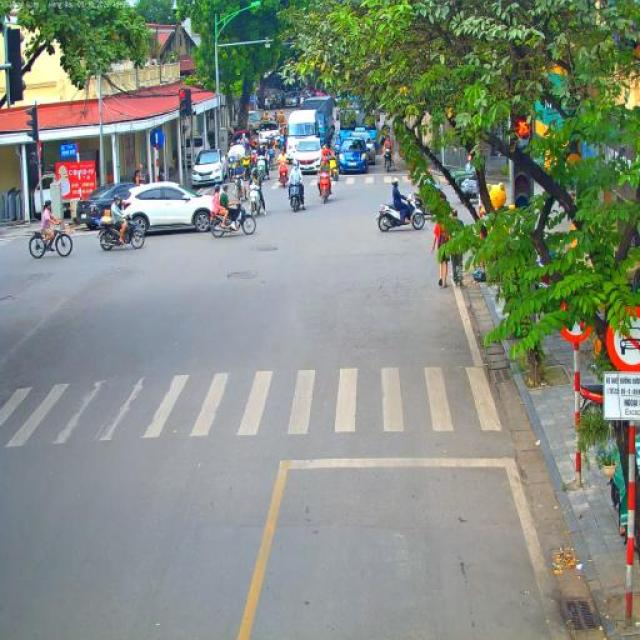bus: (334, 107, 378, 143)
car: (121, 180, 215, 239), (76, 182, 142, 232), (191, 148, 228, 190), (292, 136, 326, 176), (337, 136, 368, 174), (348, 126, 377, 166), (258, 120, 281, 148), (232, 128, 252, 144), (286, 93, 298, 107)
motorcycle: (377, 193, 428, 233), (96, 214, 146, 251), (209, 202, 257, 238), (247, 180, 263, 214), (317, 171, 333, 204), (288, 178, 302, 212), (232, 172, 246, 202), (323, 155, 339, 180), (278, 161, 288, 188), (240, 155, 252, 176), (382, 148, 392, 172), (257, 158, 267, 182), (268, 148, 276, 172), (334, 144, 341, 158)
truck: (286, 109, 325, 159), (300, 96, 334, 144), (248, 110, 262, 132)
